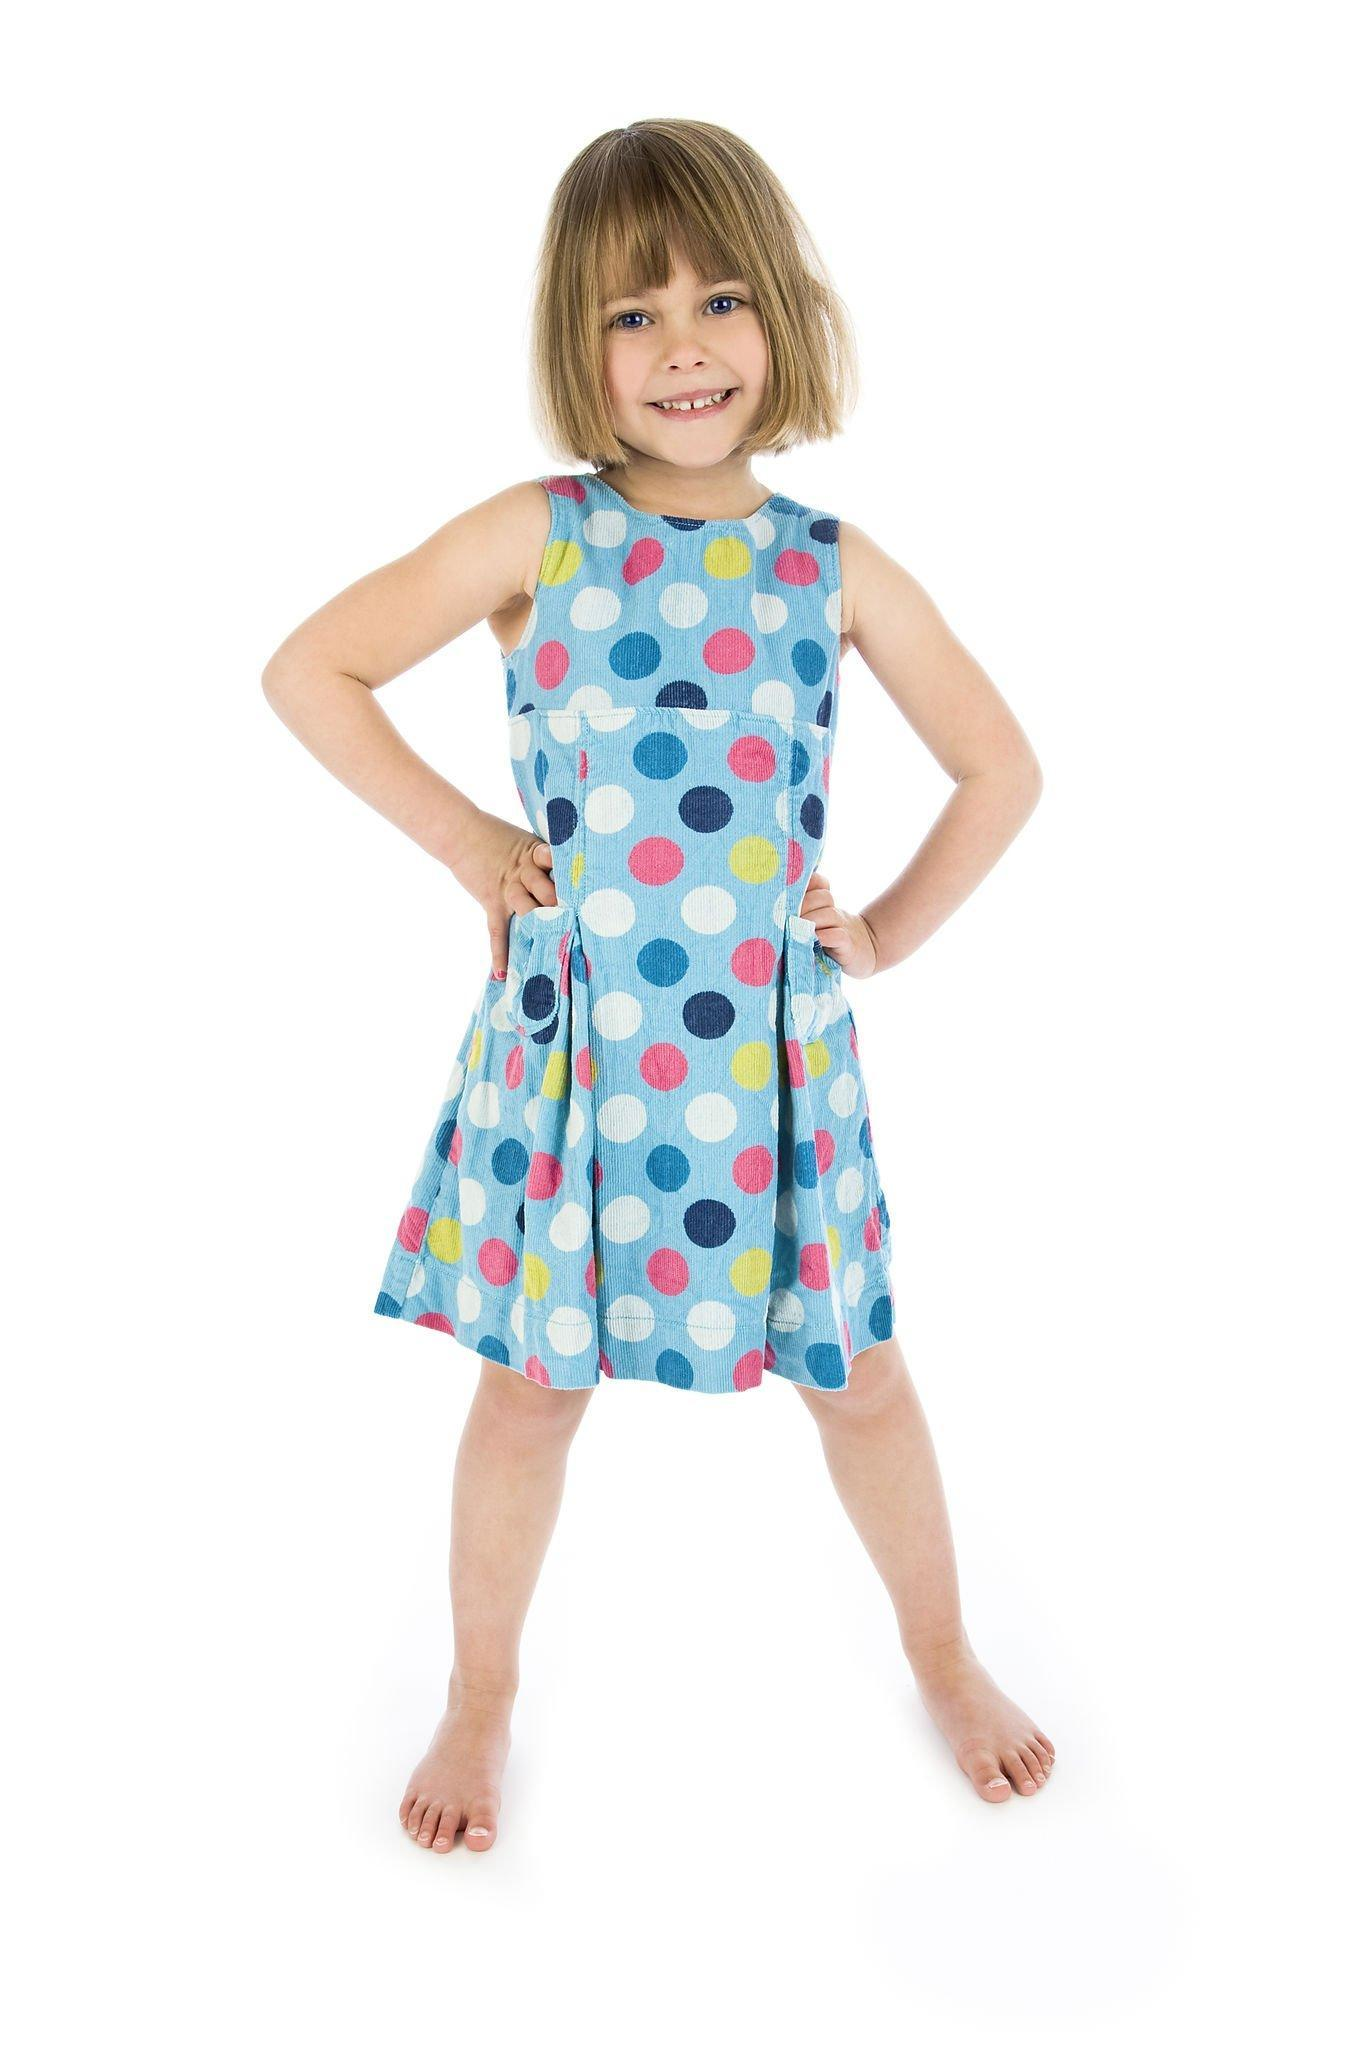Healthy: (521, 82, 868, 539)
